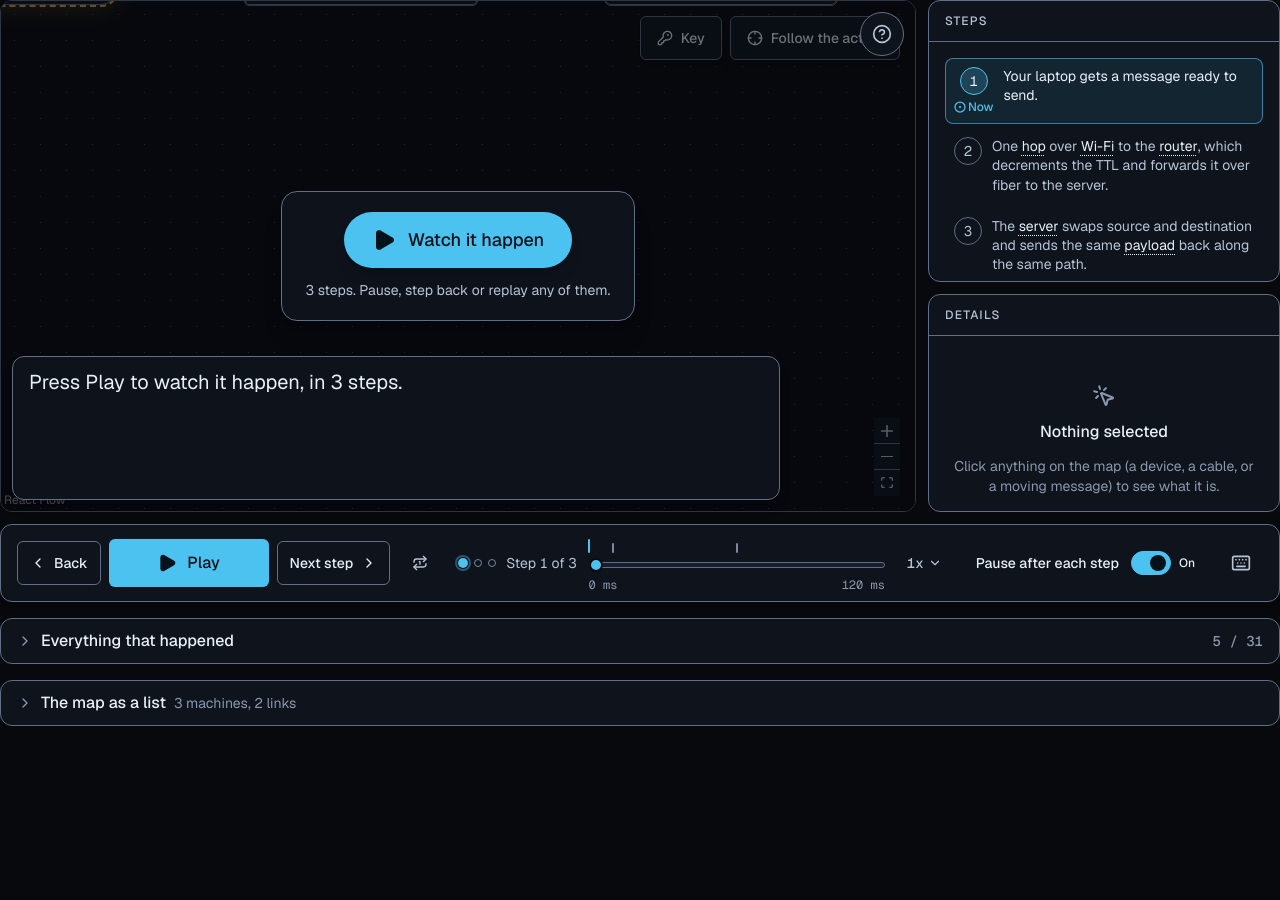
Test: help › opens from the "?" button with the module’s own lines
Click the button named "How to use this page" at coordinates (882, 34), box [860, 12, 904, 56]
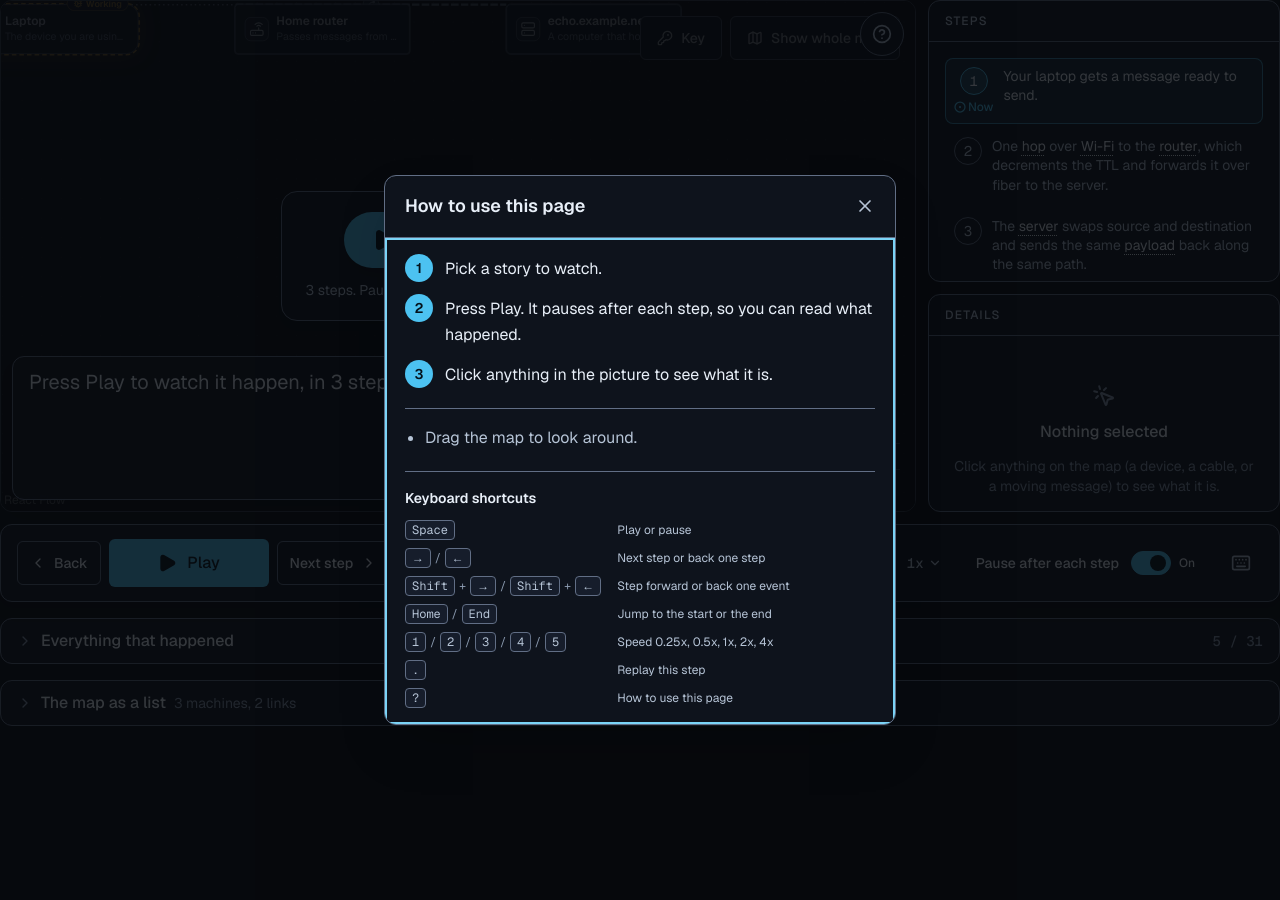
Result: the list item "Drag the map to look around." is shown at [425, 427, 637, 448]
